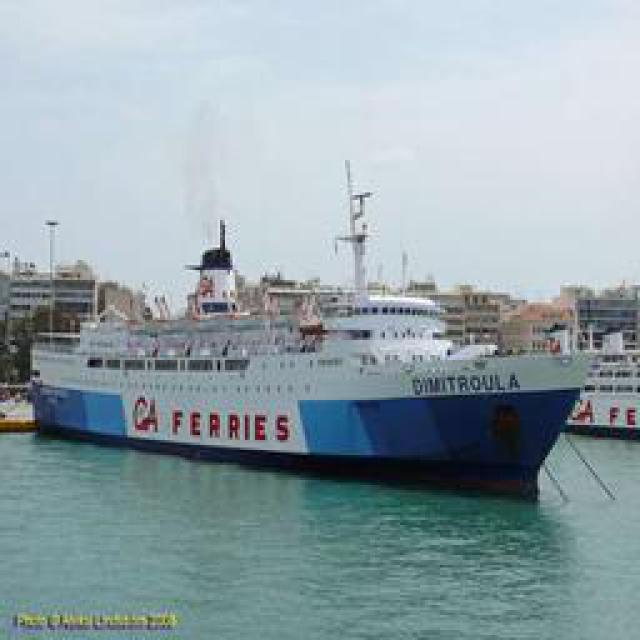Ship: (33, 176, 591, 491)
